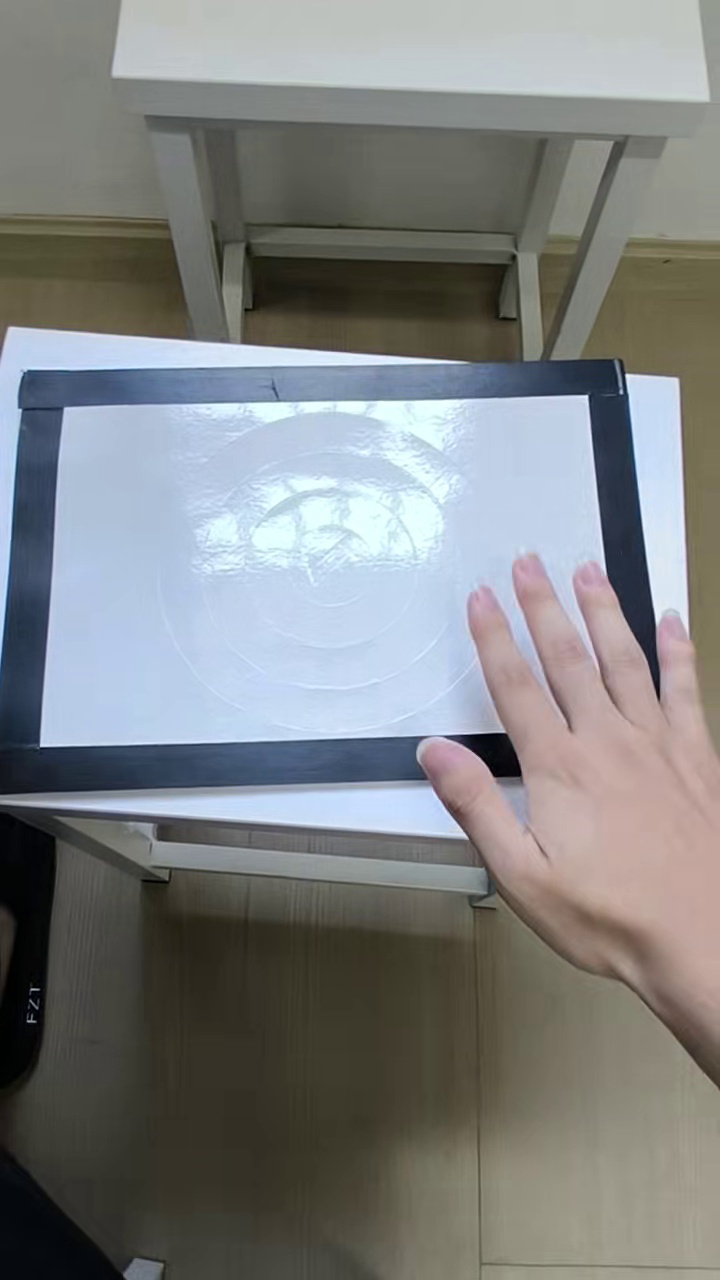board: (12, 356, 668, 790)
